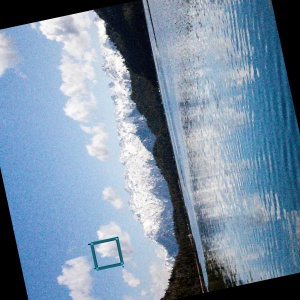square: (85, 234, 128, 274)
